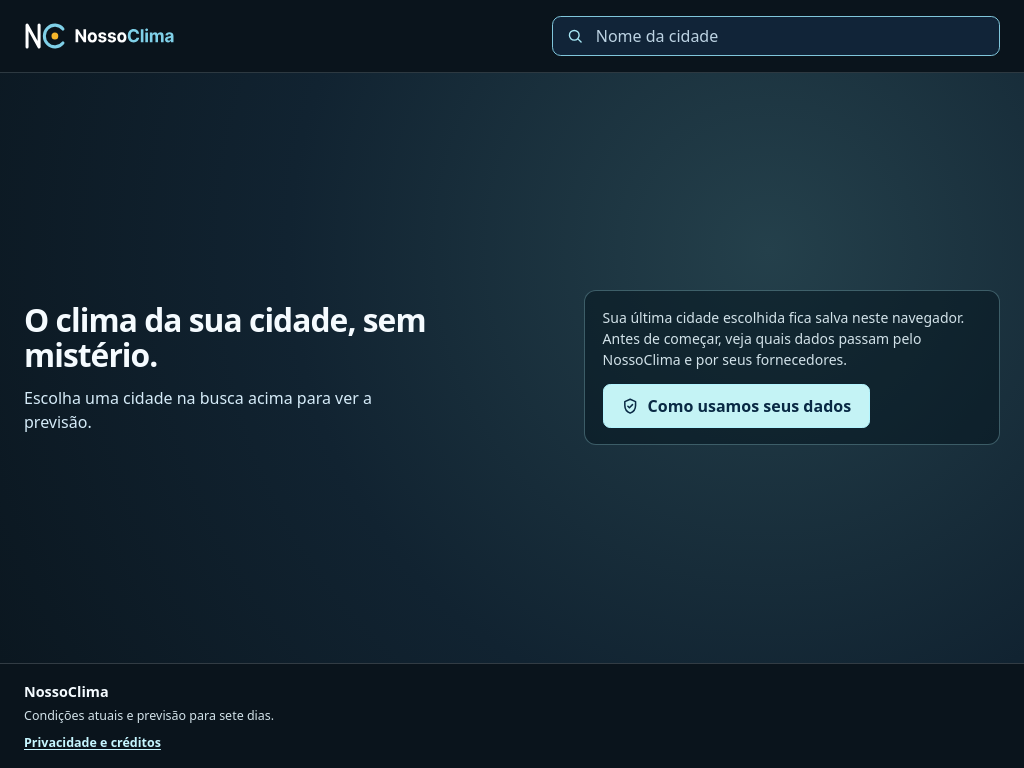
Test: city-to-forecast flow › waits for three Unicode characters and 300 ms, then selects by keyboard
Step 1. Type "Sã" into the dropdown named "Buscar cidade" → (790, 36), box [594,24,986,48]
Wait 300 ms
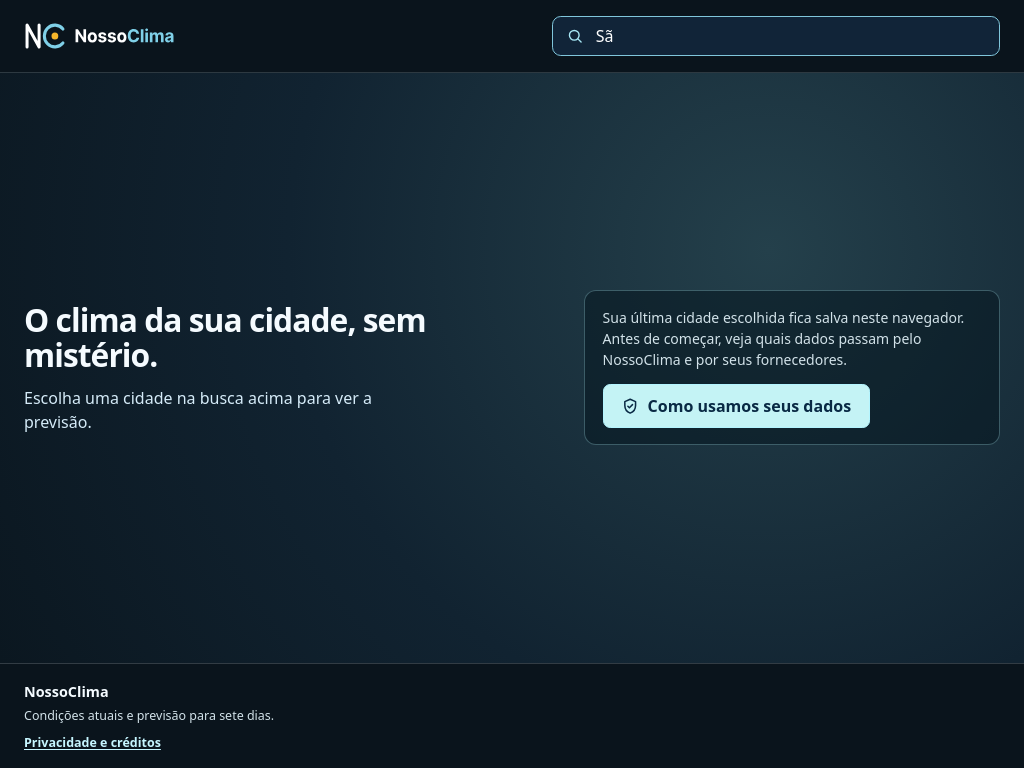
Step 2. Replace the text in the dropdown named "Buscar cidade" with "São" → (790, 36), box [594,24,986,48]
Wait 599 ms
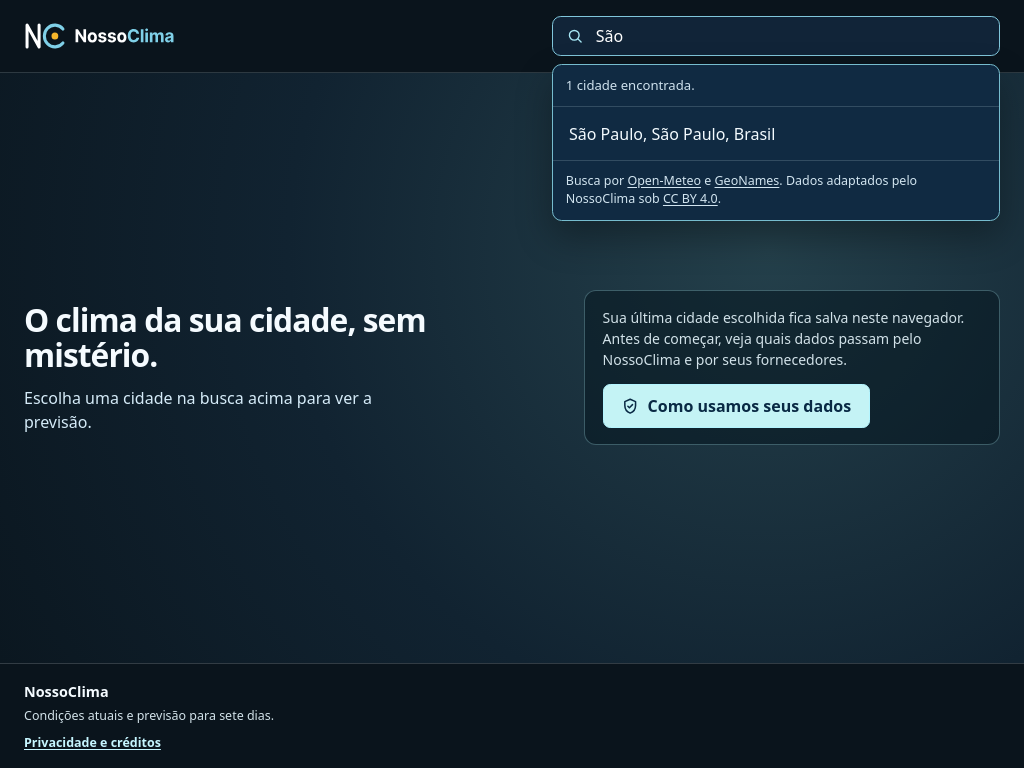
Now the message shows "1 cidade encontrada", box [566,76,695,94]
Now the link "GeoNames" is shown, box [714,172,779,189]
Step 3. Press ArrowDown in the dropdown named "Buscar cidade", box [594,24,986,48]
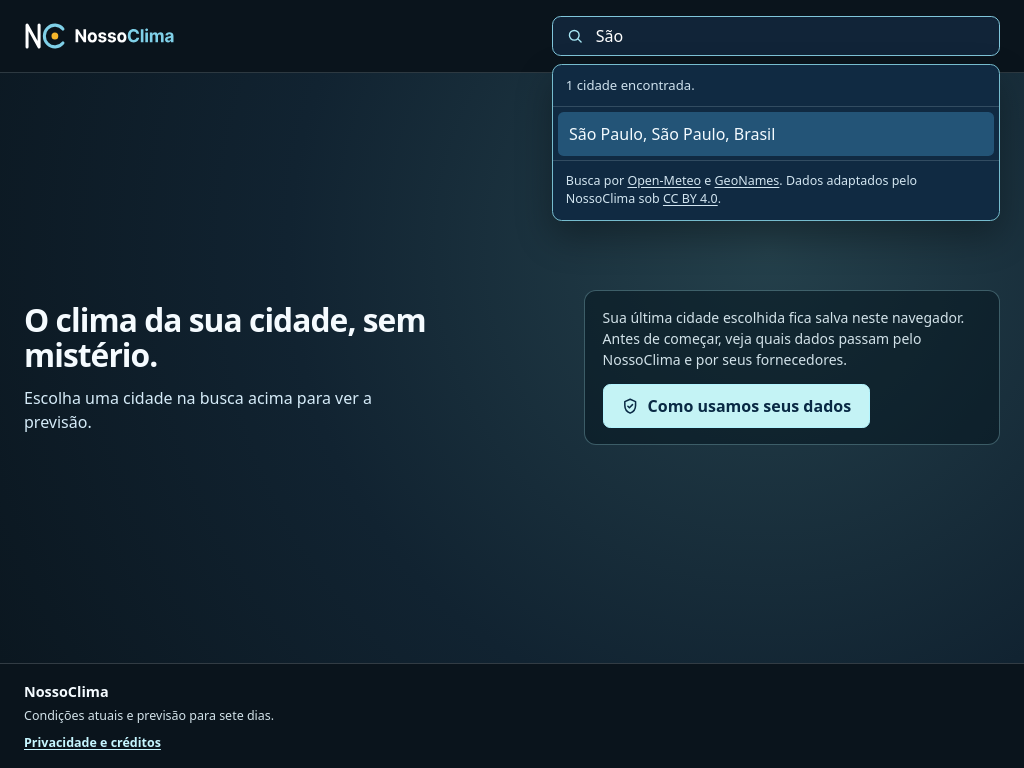
Step 4. Press Enter in the dropdown named "Buscar cidade", box [594,24,986,48]
(page scrolled)
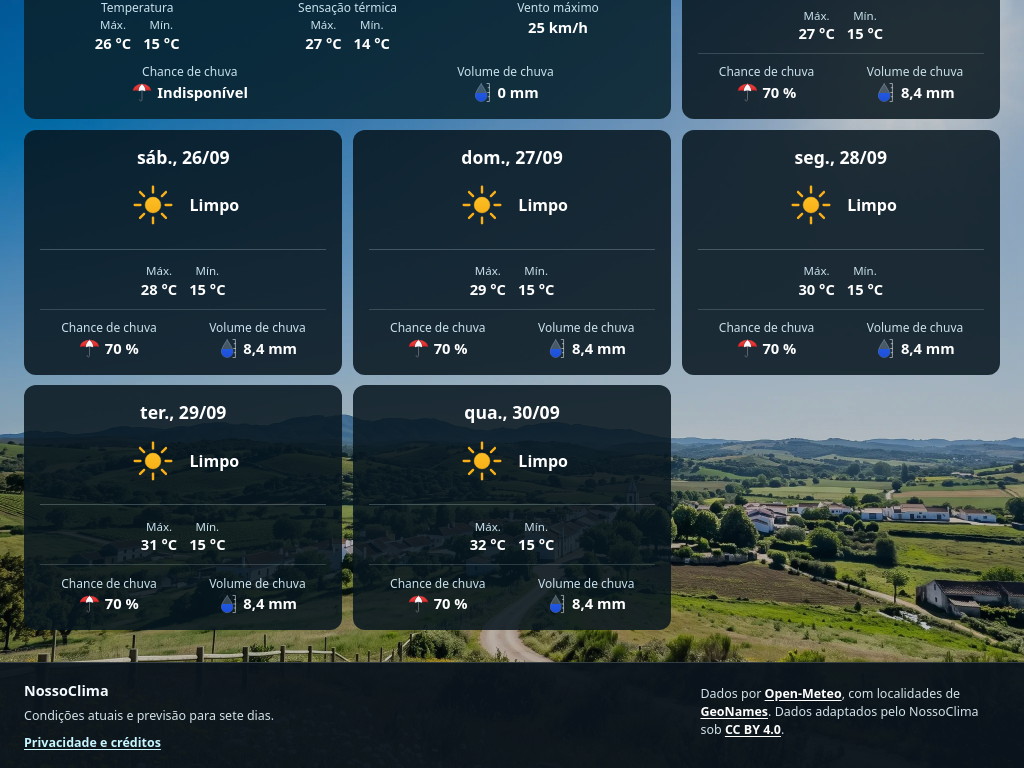
Now the text "Dados adaptados pelo NossoClima sob" is shown, box [700,703,979,738]
Now the link "GeoNames" is shown, box [700,703,768,720]
Now the text "Indisponível" is shown once, box [132,82,248,103]
